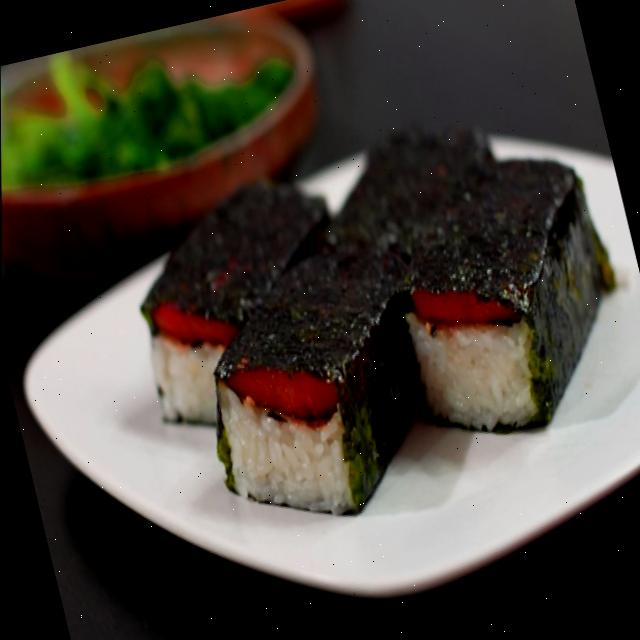寿司卷物: (35, 42, 640, 597)
